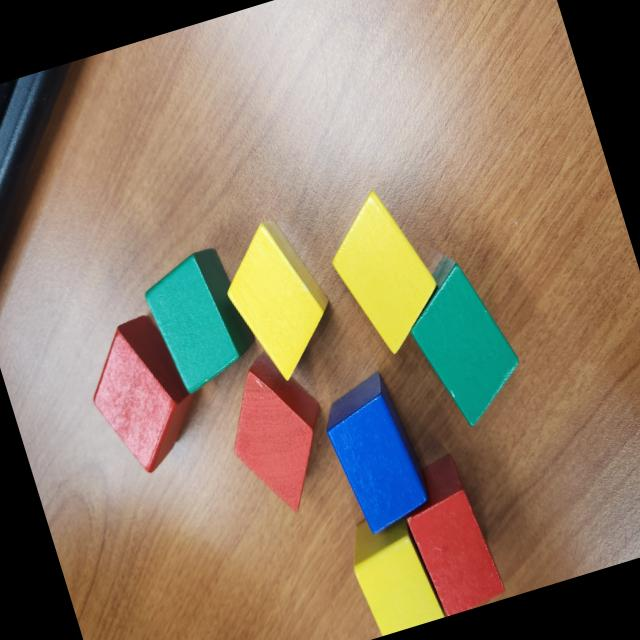blue: (312, 366, 438, 538)
green: (392, 243, 536, 436), (136, 242, 264, 398)
red: (208, 340, 347, 525), (72, 306, 214, 484), (390, 449, 508, 619)
yellow: (314, 178, 454, 363), (210, 211, 348, 391), (339, 504, 446, 638)
